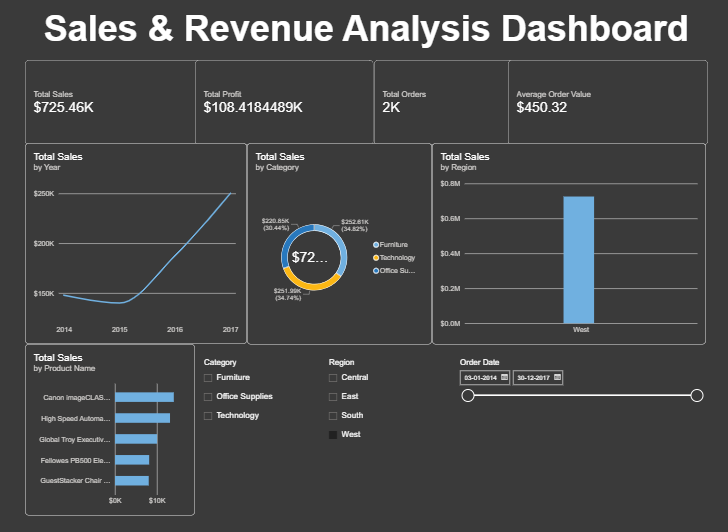

What the dashboard file says about the page in this screenshot:
{"tool":"powerbi","page":{"name":"Page 1","canvas":[1920,1080],"ordinal":0},"visuals":[{"type":"cardVisual","fields":{"Data":["Superstore.Total Sales"]},"box":[240,125,425,170],"z":0},{"type":"cardVisual","fields":{"Data":["Superstore.Total Profit"]},"box":[580,125,357.5,170],"z":1000},{"type":"cardVisual","fields":{"Data":["Superstore.Total Orders"]},"box":[938,125,276,170],"z":2000},{"type":"cardVisual","fields":{"Data":["Superstore.Average Order Value"]},"box":[1206,125,400,170],"z":3000},{"type":"lineChart","fields":{"Category":["Superstore.Order Date.Variation.Date Hierarchy.Year","Superstore.Order Date.Variation.Date Hierarchy.Month"],"Y":["Superstore.Total Sales"]},"box":[240.7,291.2,444,402],"z":4000},{"type":"clusteredBarChart","fields":{"Category":["Superstore.Product Name"],"Y":["Superstore.Total Sales"]},"box":[240.7,693.2,340,342.5],"z":5000},{"type":"donutChart","fields":{"Category":["Superstore.Category"],"Y":["Superstore.Total Sales"]},"box":[684.7,291.2,370,402.5],"z":6000},{"type":"clusteredColumnChart","fields":{"Category":["Superstore.Region"],"Y":["Superstore.Total Sales"]},"box":[1053.7,291.2,547.5,402.5],"z":7000},{"type":"slicer","fields":{"Values":["Superstore.Region"]},"box":[840,722.5,240,312],"z":8000},{"type":"slicer","fields":{"Values":["Superstore.Category"]},"box":[590,722.5,250,312],"z":9000},{"type":"slicer","fields":{"Values":["Superstore.Order Date"]},"box":[1102.5,722.5,497.5,312.5],"z":10000},{"type":"textbox","box":[240,22.5,1365,97.5],"z":11000}]}

Visuals, with their boxes on the page's 1920x1080 design canvas (x1, y1, x2, y2). These are canvas units, not pixel positions in the 728x532 screenshot, which may show the page scaled, cropped or inside an application window:
cardVisual - Superstore.Total Sales: BBox(240, 125, 665, 295)
cardVisual - Superstore.Total Profit: BBox(580, 125, 938, 295)
cardVisual - Superstore.Total Orders: BBox(938, 125, 1214, 295)
cardVisual - Superstore.Average Order Value: BBox(1206, 125, 1606, 295)
lineChart - Superstore.Order Date.Variation.Date Hierarchy.Year x Superstore.Order Date.Variation.Date Hierarchy.Month: BBox(241, 291, 685, 693)
clusteredBarChart - Superstore.Product Name x Superstore.Total Sales: BBox(241, 693, 581, 1036)
donutChart - Superstore.Category x Superstore.Total Sales: BBox(685, 291, 1055, 694)
clusteredColumnChart - Superstore.Region x Superstore.Total Sales: BBox(1054, 291, 1601, 694)
slicer - Superstore.Region: BBox(840, 722, 1080, 1034)
slicer - Superstore.Category: BBox(590, 722, 840, 1034)
slicer - Superstore.Order Date: BBox(1102, 722, 1600, 1035)
textbox: BBox(240, 22, 1605, 120)
